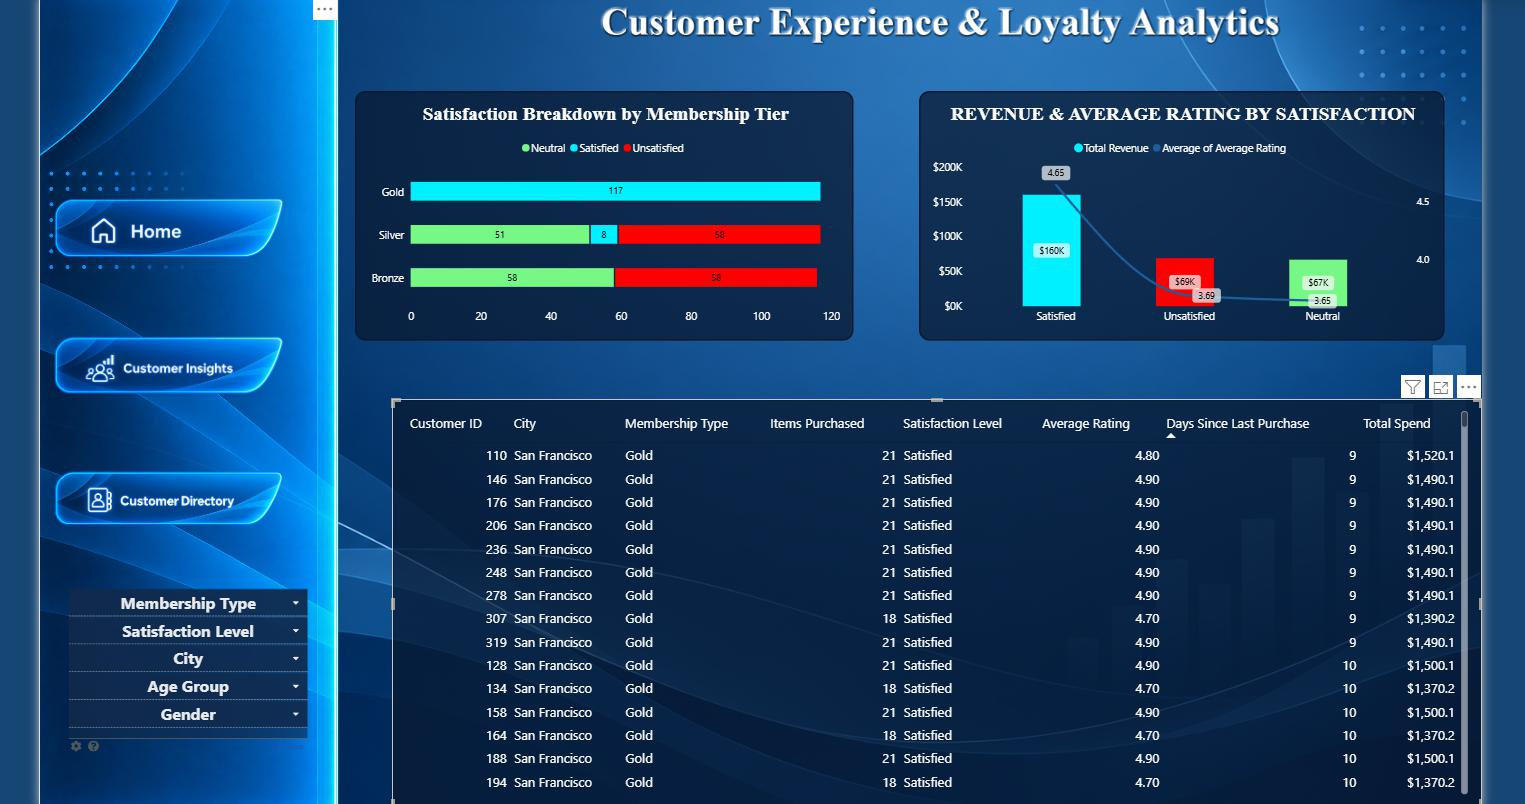

The page's visual inventory and layout, read from the dashboard file:
{"tool":"powerbi","page":{"name":"Customer Profile Directory","canvas":[1920,1080],"ordinal":2},"visuals":[{"type":"image","box":[0,0,398.3,1079.6],"z":0},{"type":"htmlContent443BE3AD55E043BF878BED274D3A6855","fields":{"content":["CB.Sliding_Header_Image"]},"box":[379.3,0,1540.7,125.5],"z":1000},{"type":"image","box":[18,213.2,307.2,190.2],"z":2000},{"type":"image","box":[18,402.8,307.3,177.2],"z":3000},{"type":"barChart","title":"Satisfaction Breakdown by Membership Tier","fields":{"Category":["CB.Membership Type"],"Series":["CB.Satisfaction Level"],"Y":["CB.Total Customers"]},"box":[420.8,126,663.1,332.2],"z":4000},{"type":"lineClusteredColumnComboChart","title":"REVENUE & AVERAGE RATING BY SATISFACTION","fields":{"Category":["CB.Satisfaction Level"],"Y":["CB.Total Revenue"],"Y2":["Avg(CB.Average Rating)"]},"box":[1171.1,126,699.1,332.2],"z":5000},{"type":"tableEx","fields":{"Values":["CB.Customer ID","CB.City","CB.Membership Type","CB.Items Purchased","CB.Satisfaction Level","CB.Average Rating","CB.Days Since Last Purchase","CB.Total Spend"]},"box":[420.8,501.1,1449.3,544],"z":6000},{"type":"image","box":[18,580,307.3,177.2],"z":7000},{"type":"slicerbar3CFEC581C7714376BAAD037A86A563B6","fields":{"category":["CB.Membership Type","CB.Satisfaction Level","CB.City","CB.Age Group","CB.Gender"]},"box":[24.1,774,349.3,248.5],"z":7001}]}

Visuals, with their boxes on the page's 1920x1080 design canvas (x1, y1, x2, y2). These are canvas units, not pixel positions in the 1525x804 screenshot, which may show the page scaled, cropped or inside an application window:
image: x1=0 y1=0 x2=398 y2=1080
htmlContent443BE3AD55E043BF878BED274D3A6855 - CB.Sliding_Header_Image: x1=379 y1=0 x2=1920 y2=126
image: x1=18 y1=213 x2=325 y2=403
image: x1=18 y1=403 x2=325 y2=580
"Satisfaction Breakdown by Membership Tier" barChart: x1=421 y1=126 x2=1084 y2=458
"REVENUE & AVERAGE RATING BY SATISFACTION" lineClusteredColumnComboChart: x1=1171 y1=126 x2=1870 y2=458
tableEx - CB.Customer ID x CB.City: x1=421 y1=501 x2=1870 y2=1045
image: x1=18 y1=580 x2=325 y2=757
slicerbar3CFEC581C7714376BAAD037A86A563B6 - CB.Membership Type x CB.Satisfaction Level: x1=24 y1=774 x2=373 y2=1022
